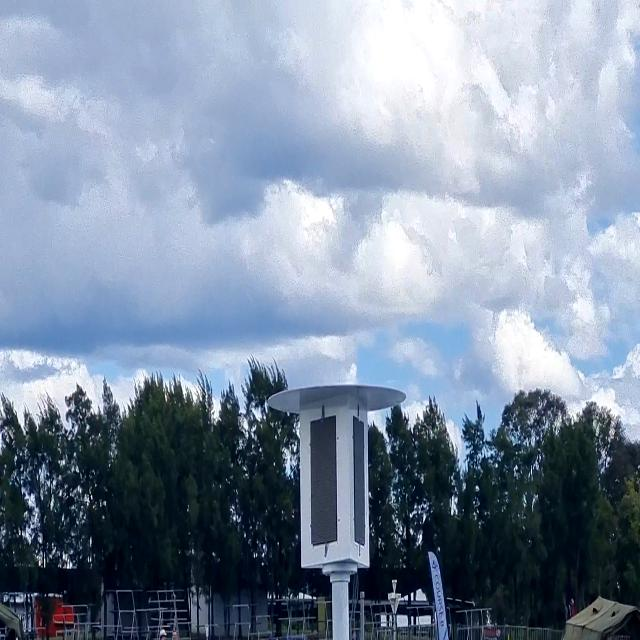led: (302, 410, 344, 550), (349, 406, 368, 553)
